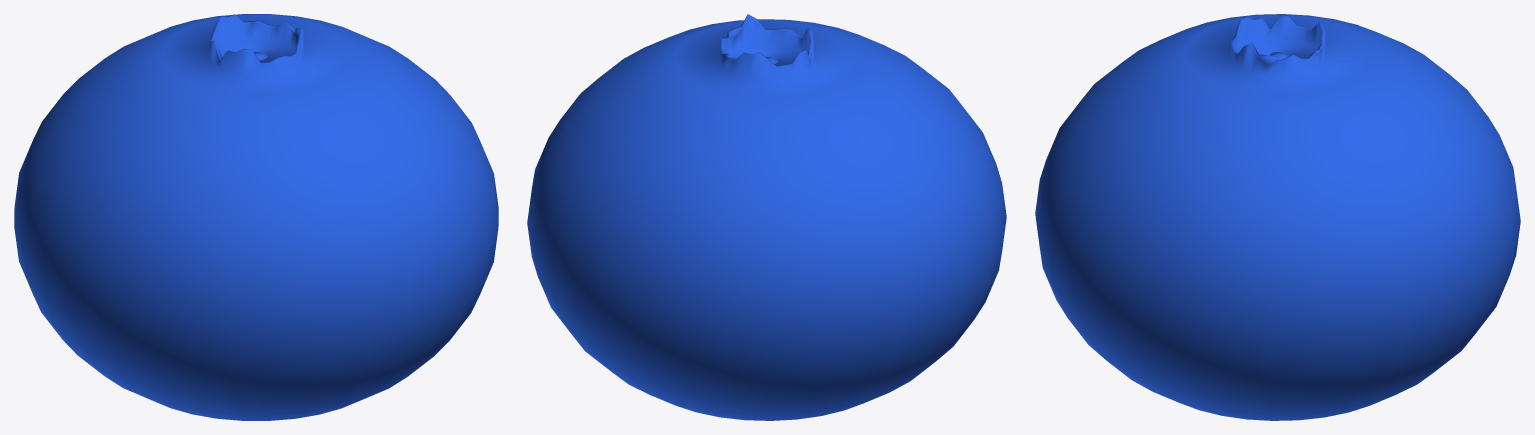
3 views of the same model, side by side, from view 1: azimuth 30°, elevation 25°; view 2: azimuth 150°, elevation 25°; view 3: azimuth 270°, elevation 25° (orthographic).
Parts seen in each view (by area): view 1: Sphere; view 2: Sphere; view 3: Sphere.
Part boxes in pixels (x1=…): Sphere: x1=14, y1=14, x2=498, y2=420; Sphere: x1=527, y1=14, x2=1006, y2=420; Sphere: x1=1035, y1=14, x2=1520, y2=420.
Size of the model in its own units: 2 by 1.64 by 2.
